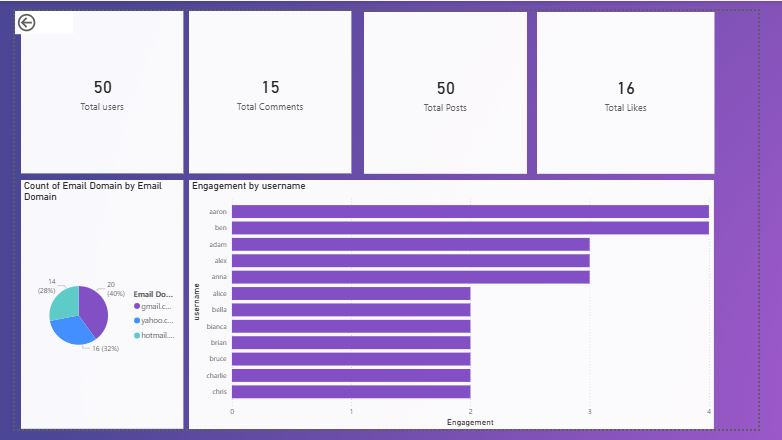

What the dashboard file says about the page in this screenshot:
{"tool":"powerbi","page":{"name":"Overview Dashboard","canvas":[1280,720],"ordinal":1},"visuals":[{"type":"card","fields":{"Values":["socialmediadb users.Total users"]},"box":[10,0,280,280],"z":0},{"type":"card","fields":{"Values":["socialmediadb posts.Total Posts"]},"box":[601.4,1.7,280.5,278.8],"z":1000},{"type":"card","fields":{"Values":["socialmediadb likes.Total Likes"]},"box":[900.4,1.7,305.7,278.8],"z":2000},{"type":"card","fields":{"Values":["socialmediadb comments.Total Comments"]},"box":[300,0,280,280],"z":3000},{"type":"barChart","fields":{"Y":["socialmediadb comments.Engagement"],"Category":["socialmediadb users.username"]},"box":[300.7,290.6,905.4,430],"z":3001},{"type":"pieChart","fields":{"Category":["socialmediadb users.Email Domain"],"Y":["CountNonNull(socialmediadb users.Email Domain)"]},"box":[10,291,280,429],"z":3002},{"type":"actionButton","box":[0,0,100,40],"z":3003}]}

Visuals, with their boxes in screenshot pixels (x1, y1, x2, y2), scaled from the page's 1280x720 canvas onto the 782x440 screenshot:
card - socialmediadb users.Total users: crop(6, 0, 177, 171)
card - socialmediadb posts.Total Posts: crop(367, 1, 539, 171)
card - socialmediadb likes.Total Likes: crop(550, 1, 737, 171)
card - socialmediadb comments.Total Comments: crop(183, 0, 354, 171)
barChart - socialmediadb comments.Engagement x socialmediadb users.username: crop(184, 178, 737, 439)
pieChart - socialmediadb users.Email Domain x CountNonNull(socialmediadb users.Email Domain): crop(6, 178, 177, 439)
actionButton: crop(0, 0, 61, 24)
